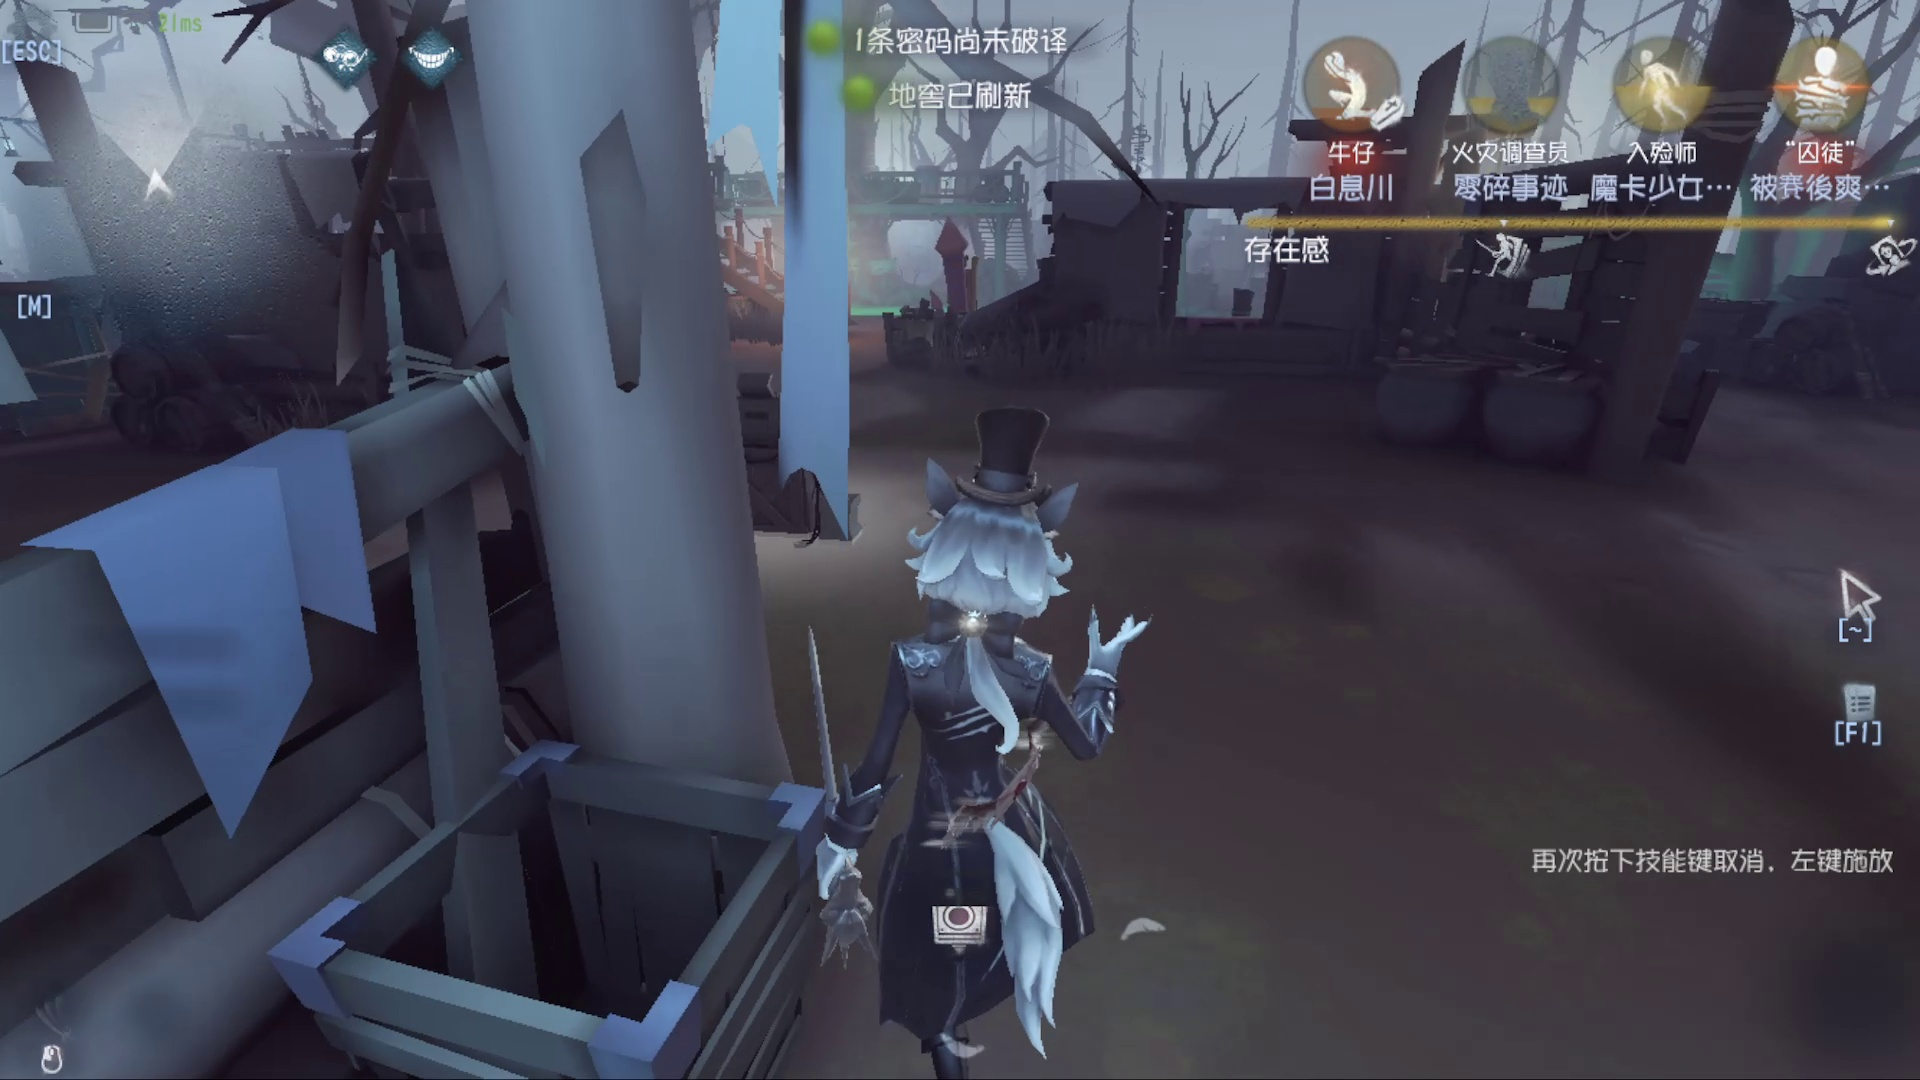狂欢之椅: (922, 196, 1000, 338)
